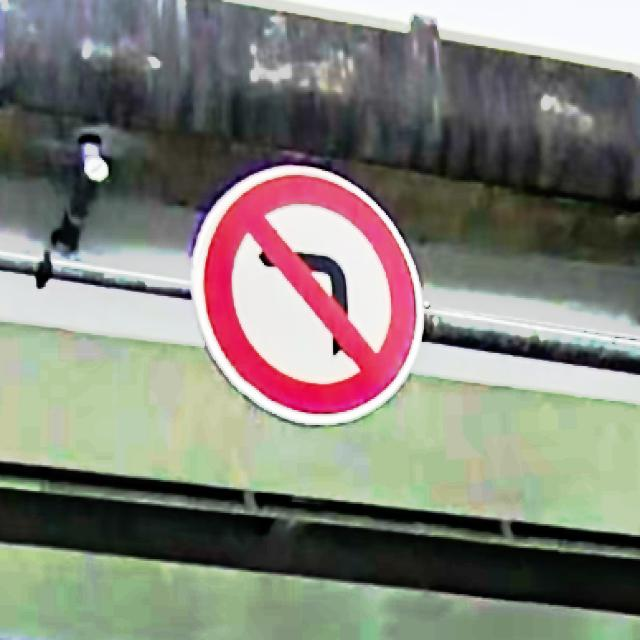noturnleft: (201, 175, 414, 414)
